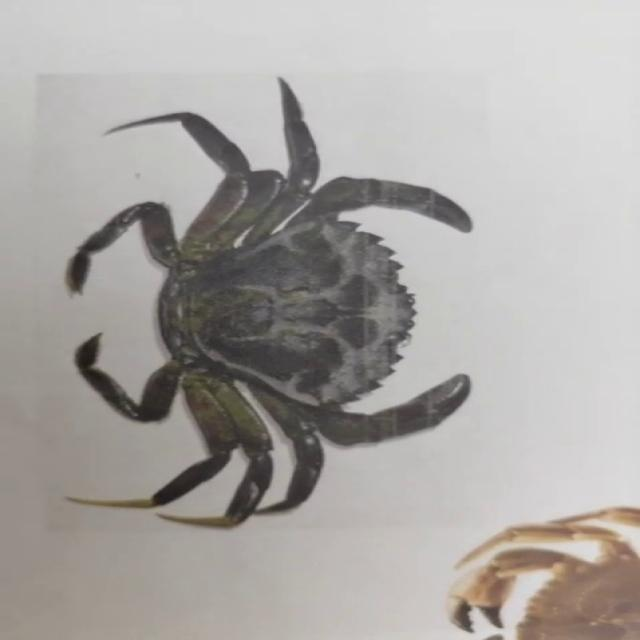egc: (67, 78, 471, 527)
